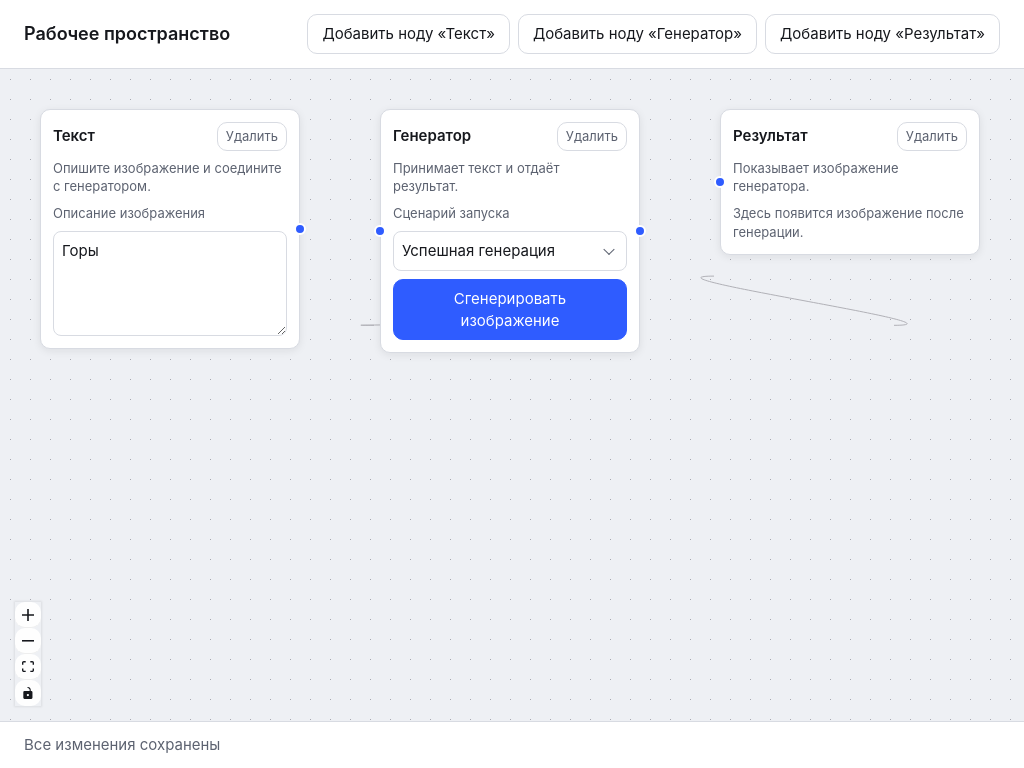
Test case: экран канваса › тестовый отказ объясняет ситуацию и допускает новый запуск
Click the button "Сгенерировать изображение". click: (510,310)
box: [393,279,627,340]
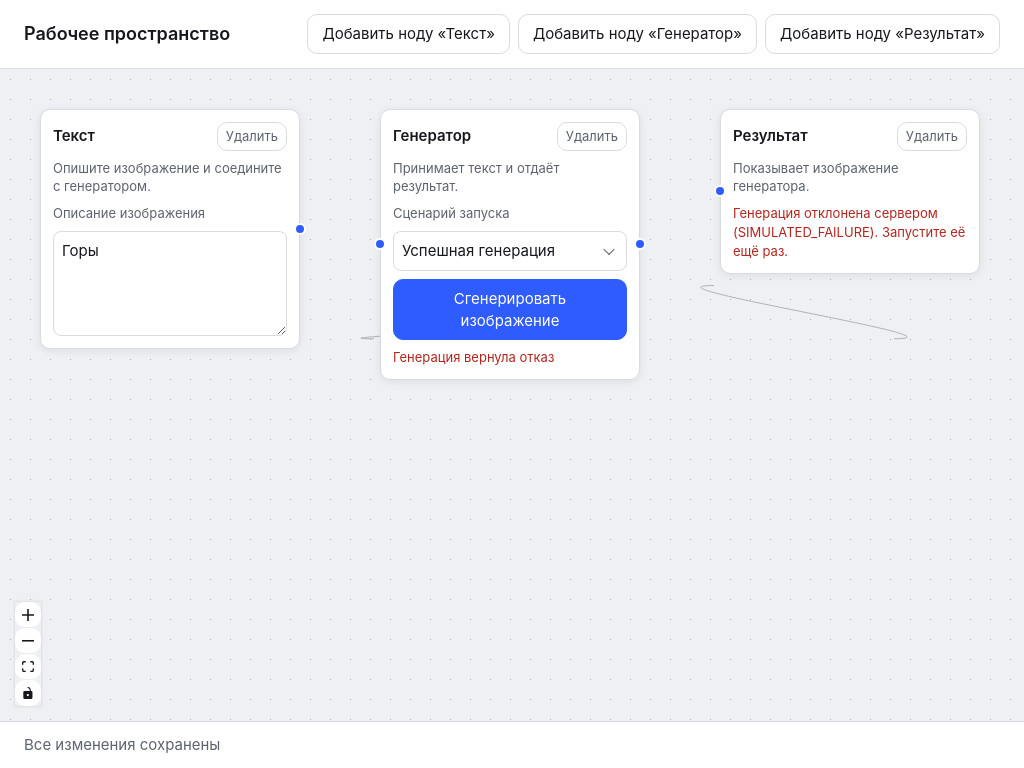
Now the text "Генерация отклонена сервером (SIMULATED_FAILURE). Запустите её ещё раз." is shown, box [733,204,967,261]
